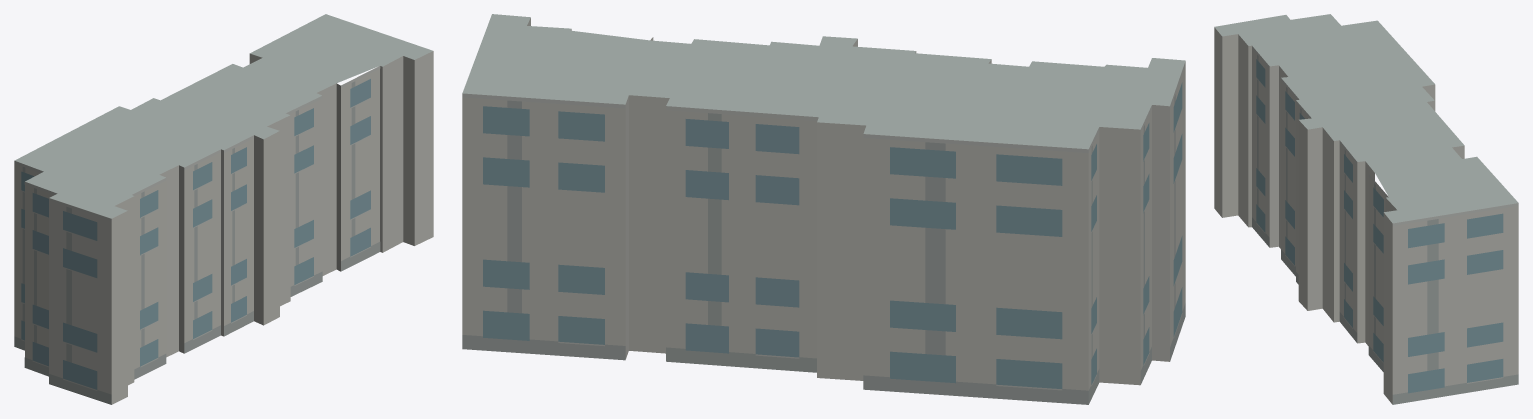
Rendered from survey-upis-32586445.glb.
The picture shows the model from 3 angles, left to right: view 1: azimuth 30°, elevation 25°; view 2: azimuth 150°, elevation 25°; view 3: azimuth 270°, elevation 25°; orthographic projection. The views are drawn at different scales.
Parts seen in each view (by area): view 1: survey-upis-32586445.tmp; view 2: survey-upis-32586445.tmp; view 3: survey-upis-32586445.tmp.
Boxes of the visible parts, x1,y1,x2,y2 form: survey-upis-32586445.tmp: (14, 14, 433, 404); survey-upis-32586445.tmp: (462, 14, 1185, 404); survey-upis-32586445.tmp: (1214, 14, 1518, 404).
Size of the model in its own units: 38.64 by 15.6 by 23.74.
